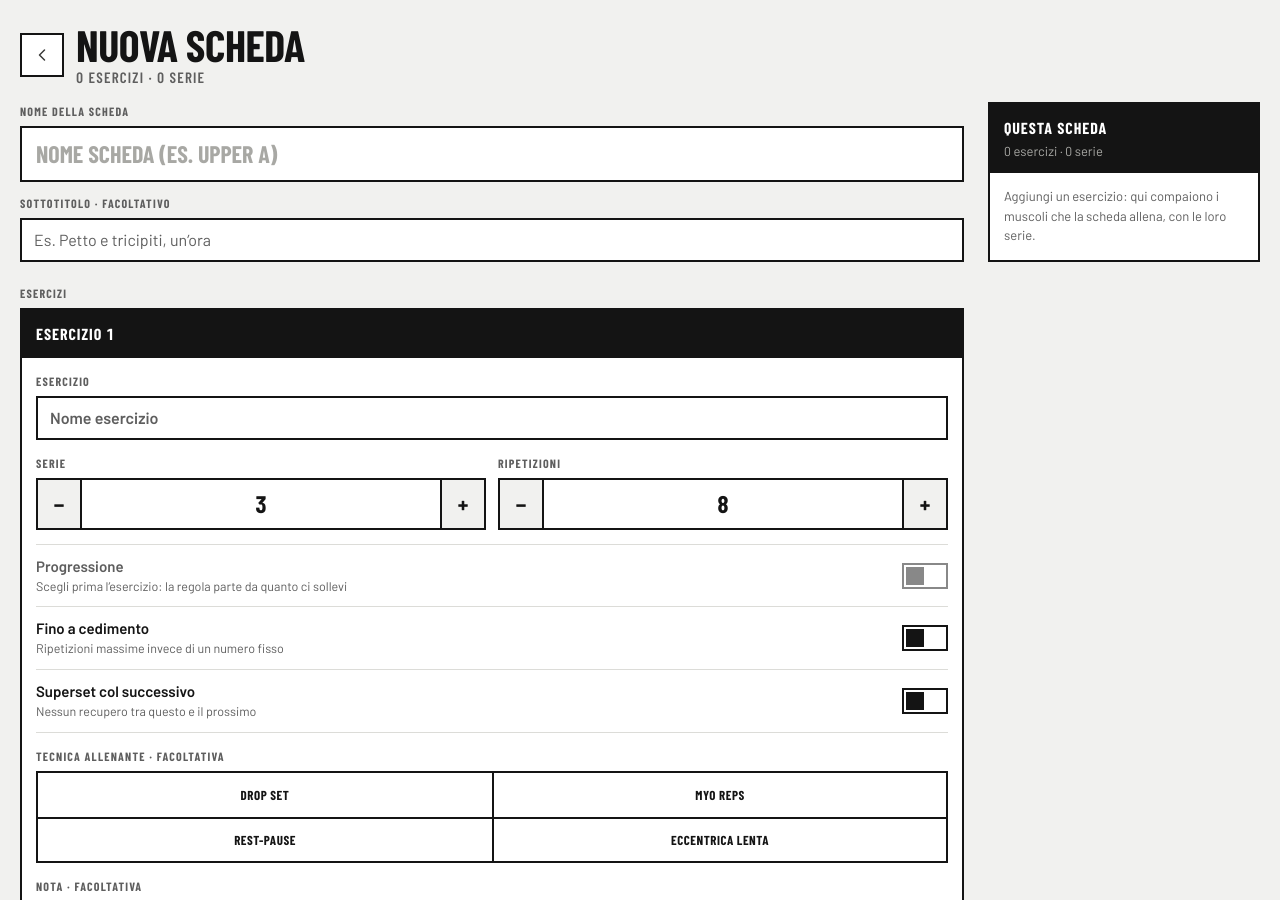
la legenda accanto al form, su desktop › si aggiorna mentre si aggiungono le righe
Check: the text "Aggiungi un esercizio: qui compaiono i muscoli" is shown, box [1004, 188, 1226, 243]
Type "Squat" into the field labelled "Nome esercizio". click: (492, 418)
box: [36, 396, 948, 440]
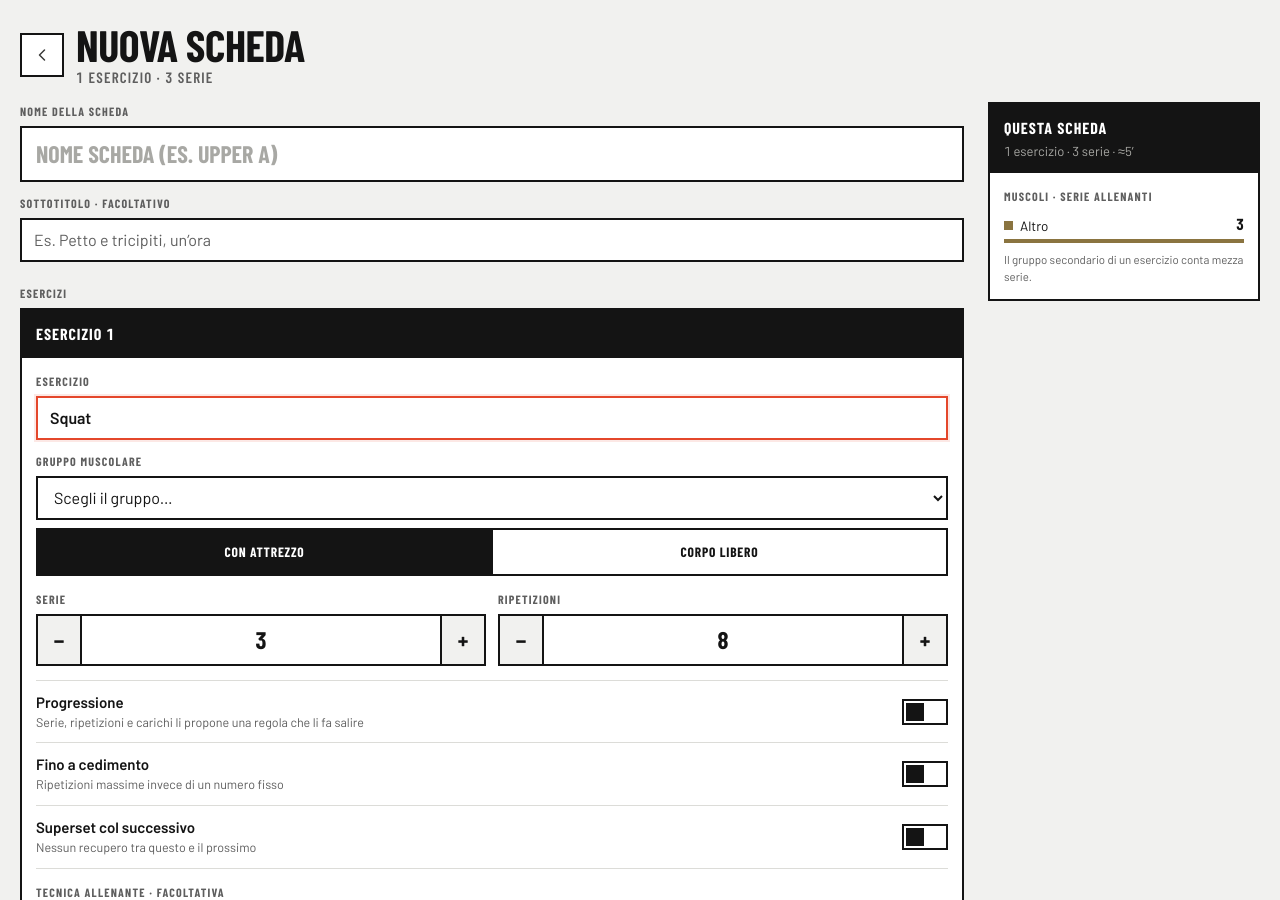
Select "Gambe" in the dropdown named "Gruppo muscolare". click: (492, 498)
box: [36, 476, 948, 520]
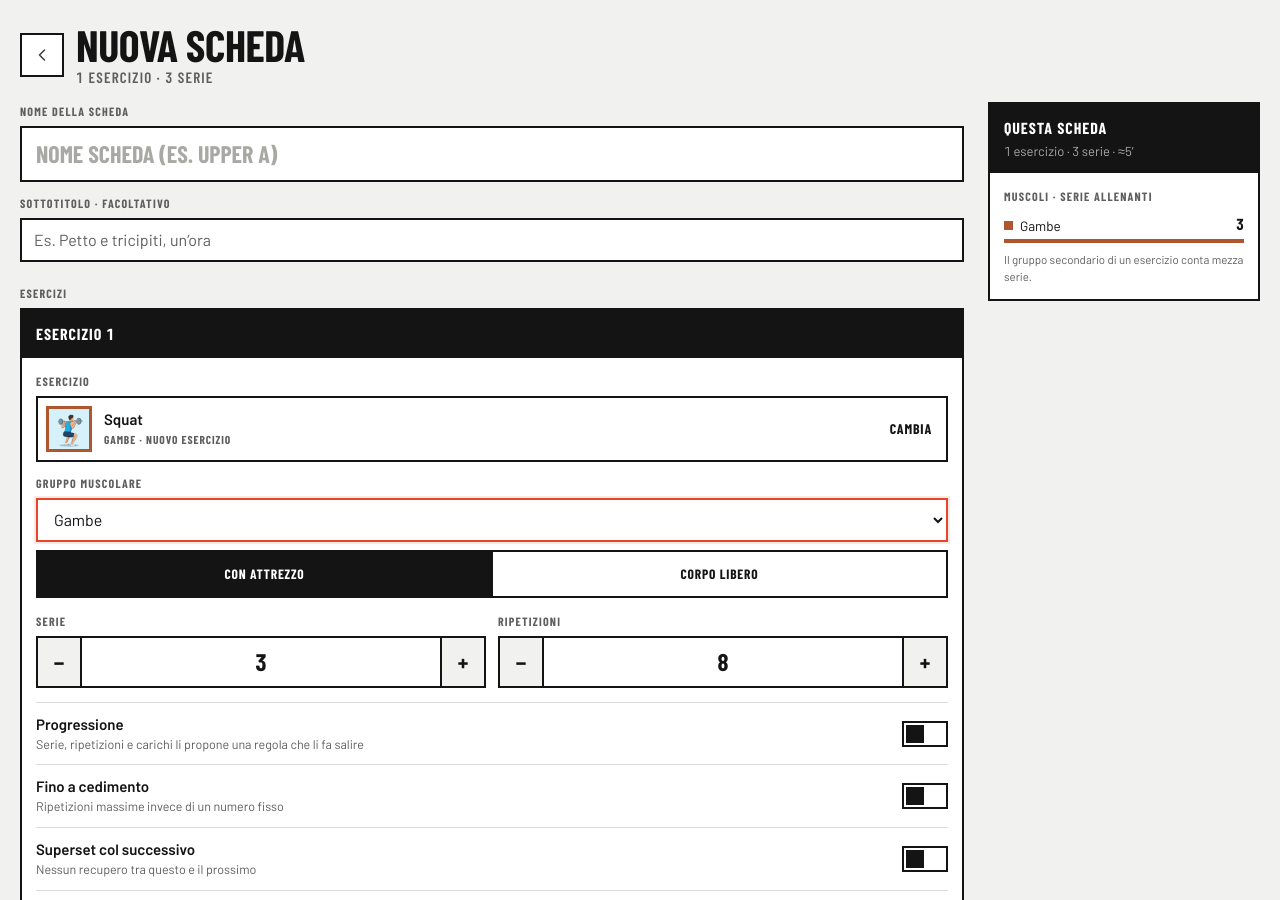
Check: the text "1 esercizio · 3 serie · ≈5′" is shown, box [1004, 143, 1140, 159]
Check: the text "Gambe" is shown, box [1020, 217, 1061, 235]
